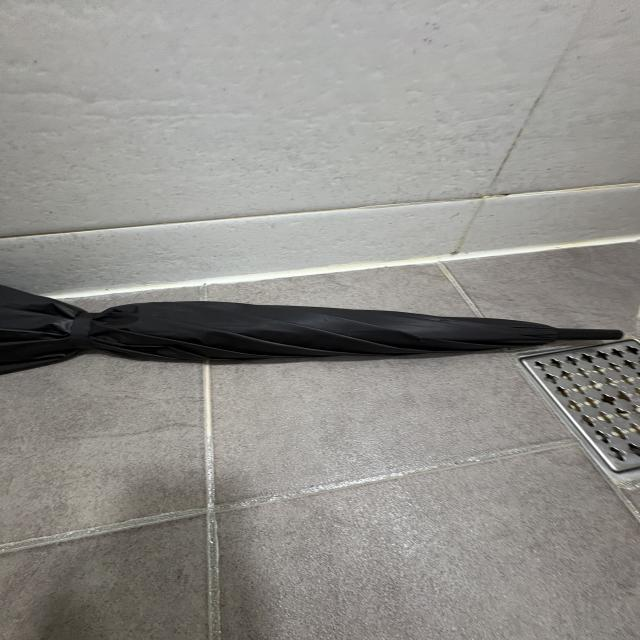umbrella: (2, 284, 625, 393)
